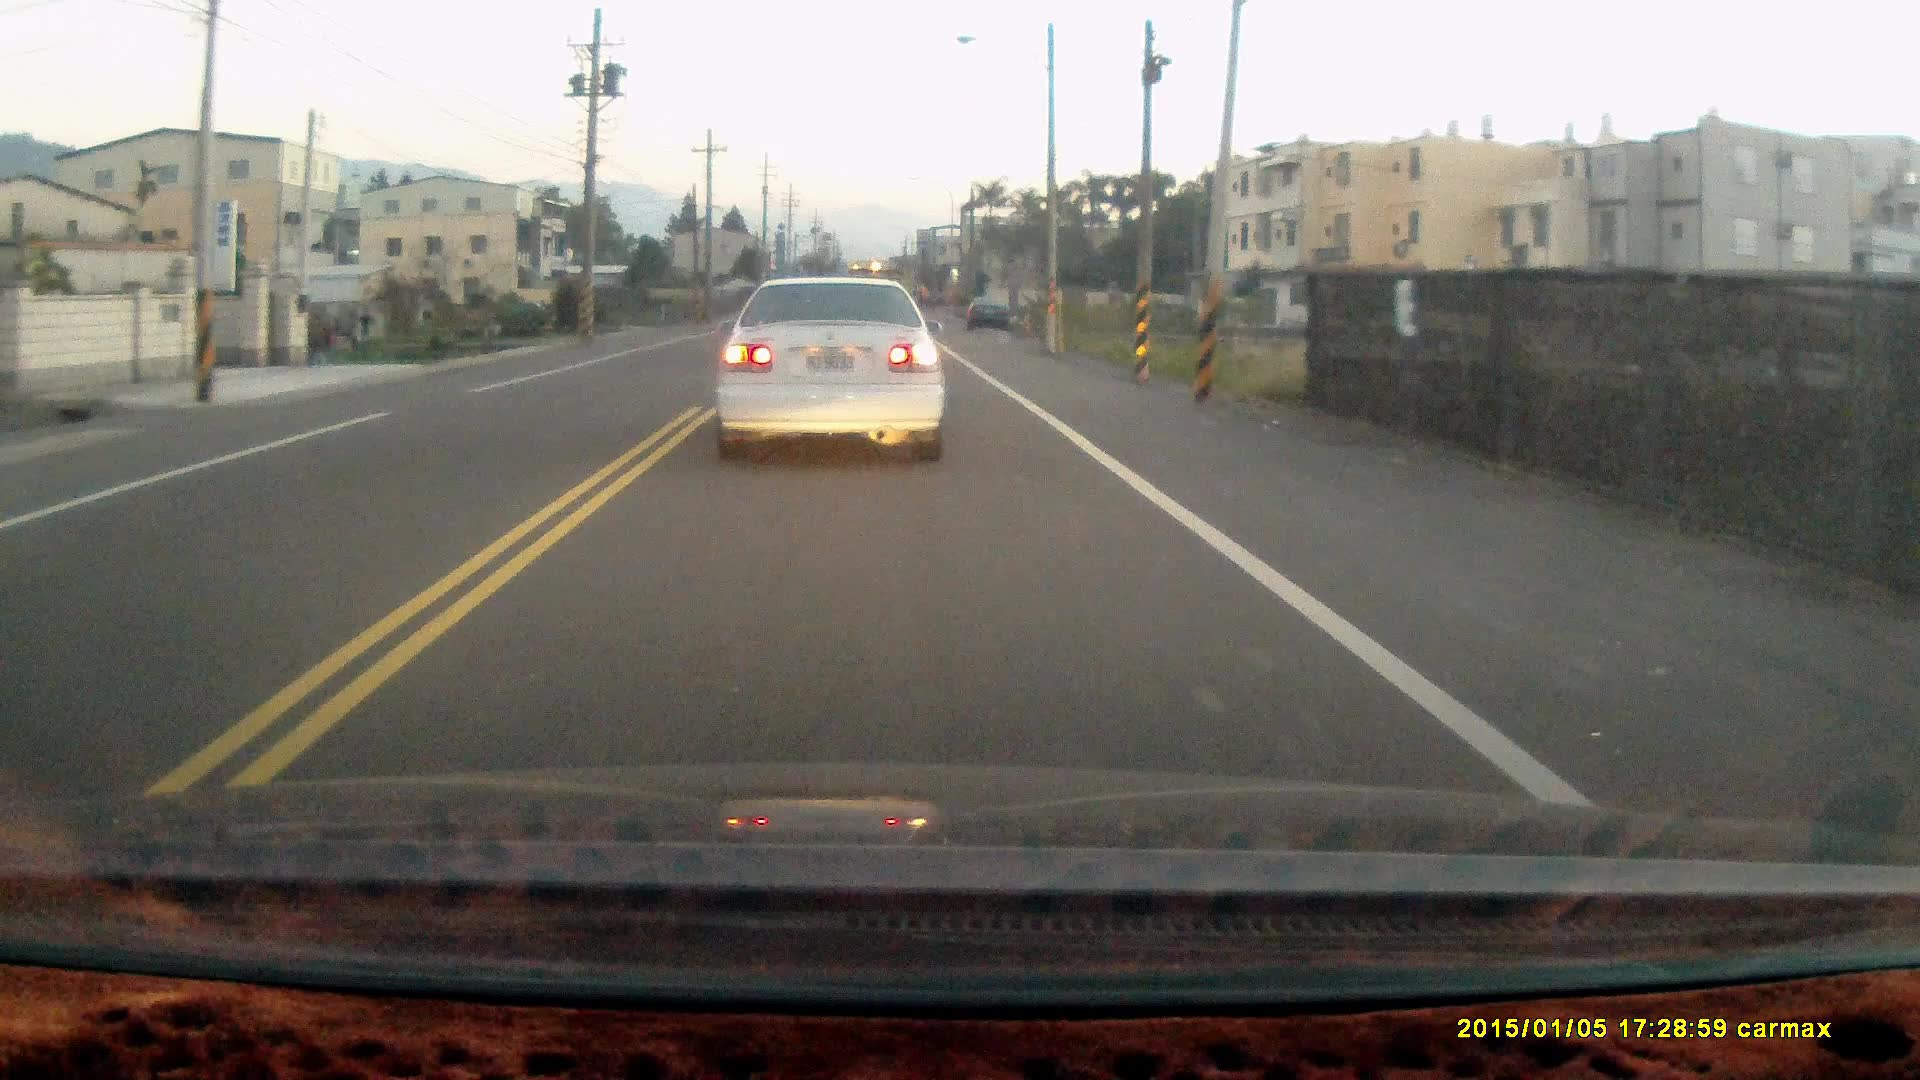vehicle: (717, 278, 952, 472), (967, 295, 1015, 335)
